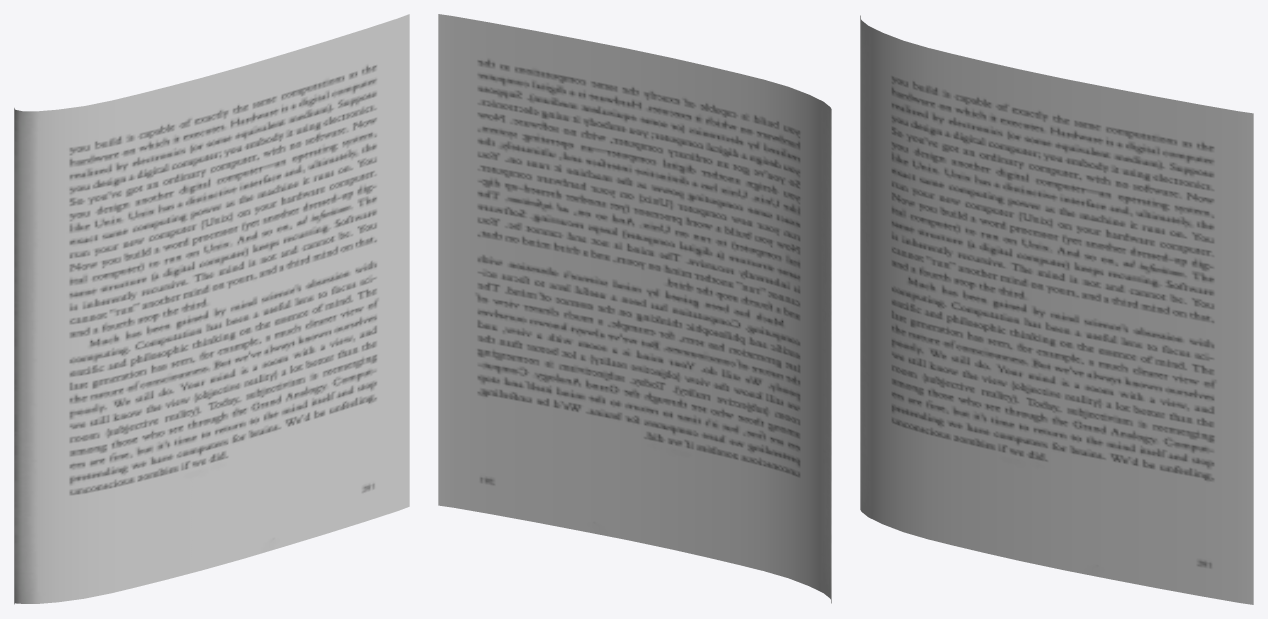
File: MeshBook_28_0_GeomSubset_2.obj
3 views of the same model, side by side, from view 1: azimuth 30°, elevation 25°; view 2: azimuth 150°, elevation 25°; view 3: azimuth 330°, elevation 25° (orthographic).
Visible parts, largest first — view 1: MeshBook_28_0_GeomSubset_2; view 2: MeshBook_28_0_GeomSubset_2; view 3: MeshBook_28_0_GeomSubset_2.
Part boxes in pixels (x1,y1,x2,y2): MeshBook_28_0_GeomSubset_2: (14,14,409,604); MeshBook_28_0_GeomSubset_2: (438,14,831,603); MeshBook_28_0_GeomSubset_2: (860,15,1253,604).
Size of the model in its own units: 0.2122 by 0.2561 by 0.0142.
1 material, 1 textured.
